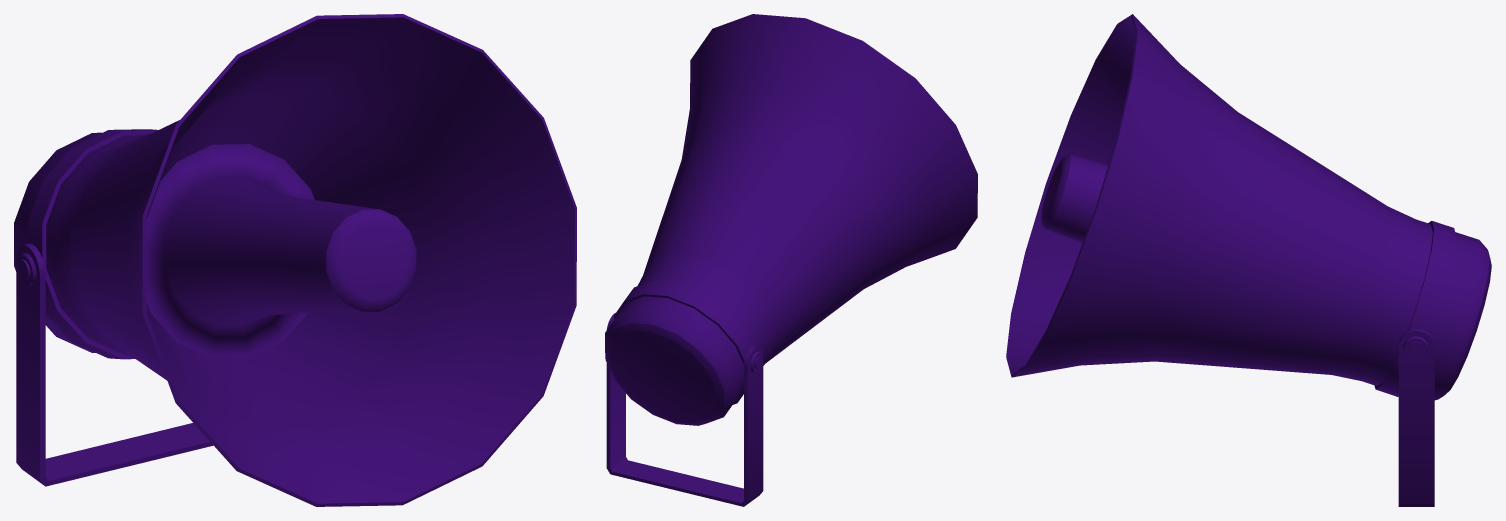
Rendered from SpeakerReduced.fbx.
3 views of the same model, side by side, from view 1: azimuth 30°, elevation 25°; view 2: azimuth 150°, elevation 25°; view 3: azimuth 270°, elevation 25° (orthographic). The views are drawn at different scales.
Visible parts, largest first — view 1: Loudspeaker_Low; view 2: Loudspeaker_Low; view 3: Loudspeaker_Low.
Part boxes in pixels (<box>): Loudspeaker_Low: <box>14,14,576,506</box>; Loudspeaker_Low: <box>605,14,977,506</box>; Loudspeaker_Low: <box>1006,14,1491,506</box>.
Bounding box in the file's own units: 12.96 × 16.29 × 16.42.
